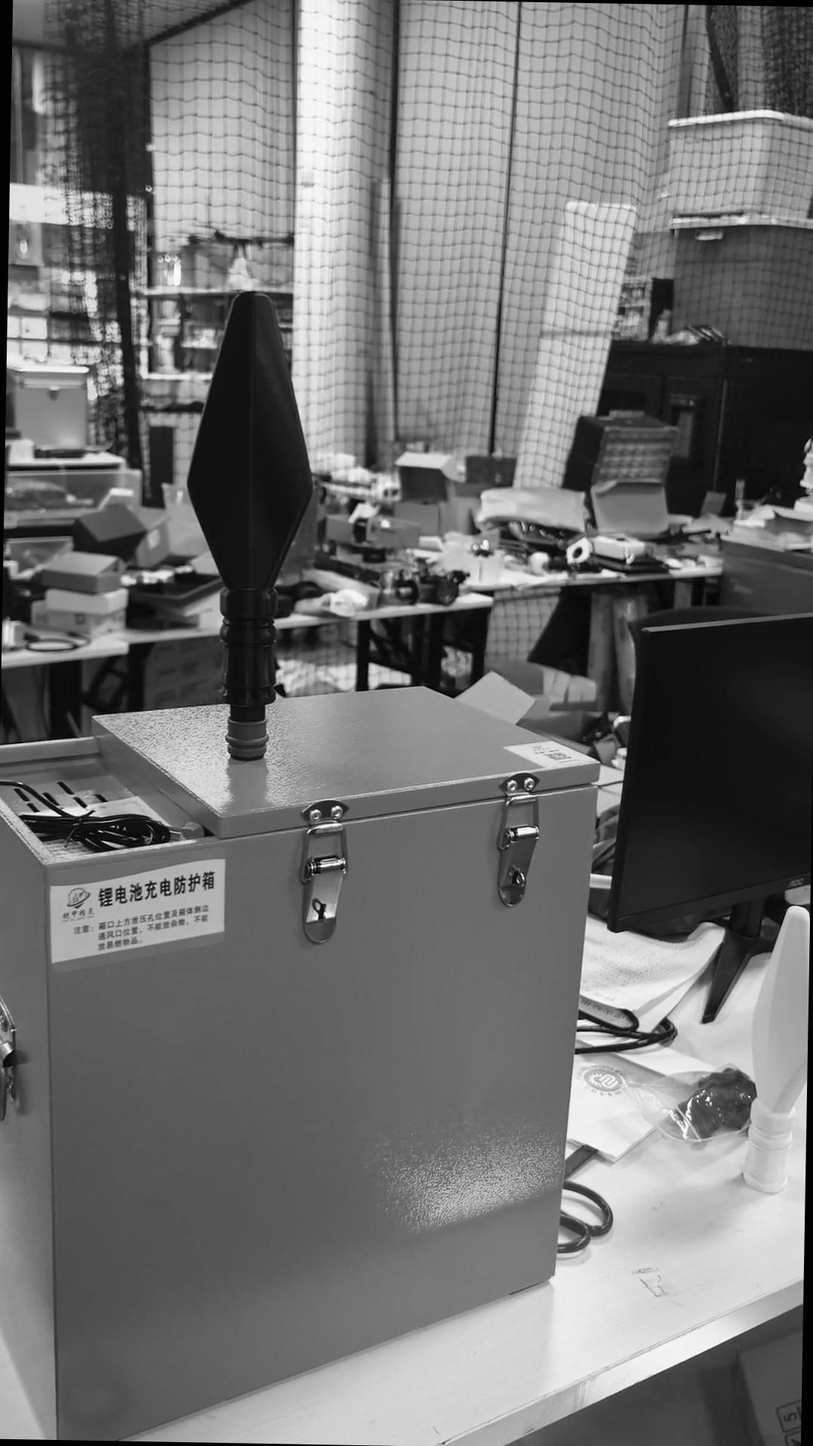base: (227, 715, 268, 758)
